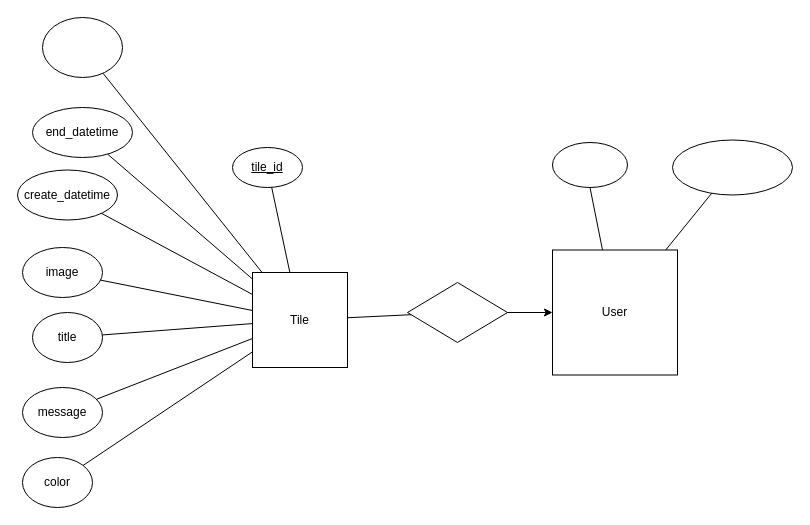
The diagram is 810 pixels wide and 525 high, and some of its shapes have lost their labels. Here are the shapes that lost their labels. From the top down, the centre of each, then its label:
At point 82,47: "ispinned".
At point 590,165: "user_id".
At point 732,167: "hashed_password".
At point 457,312: "create".
